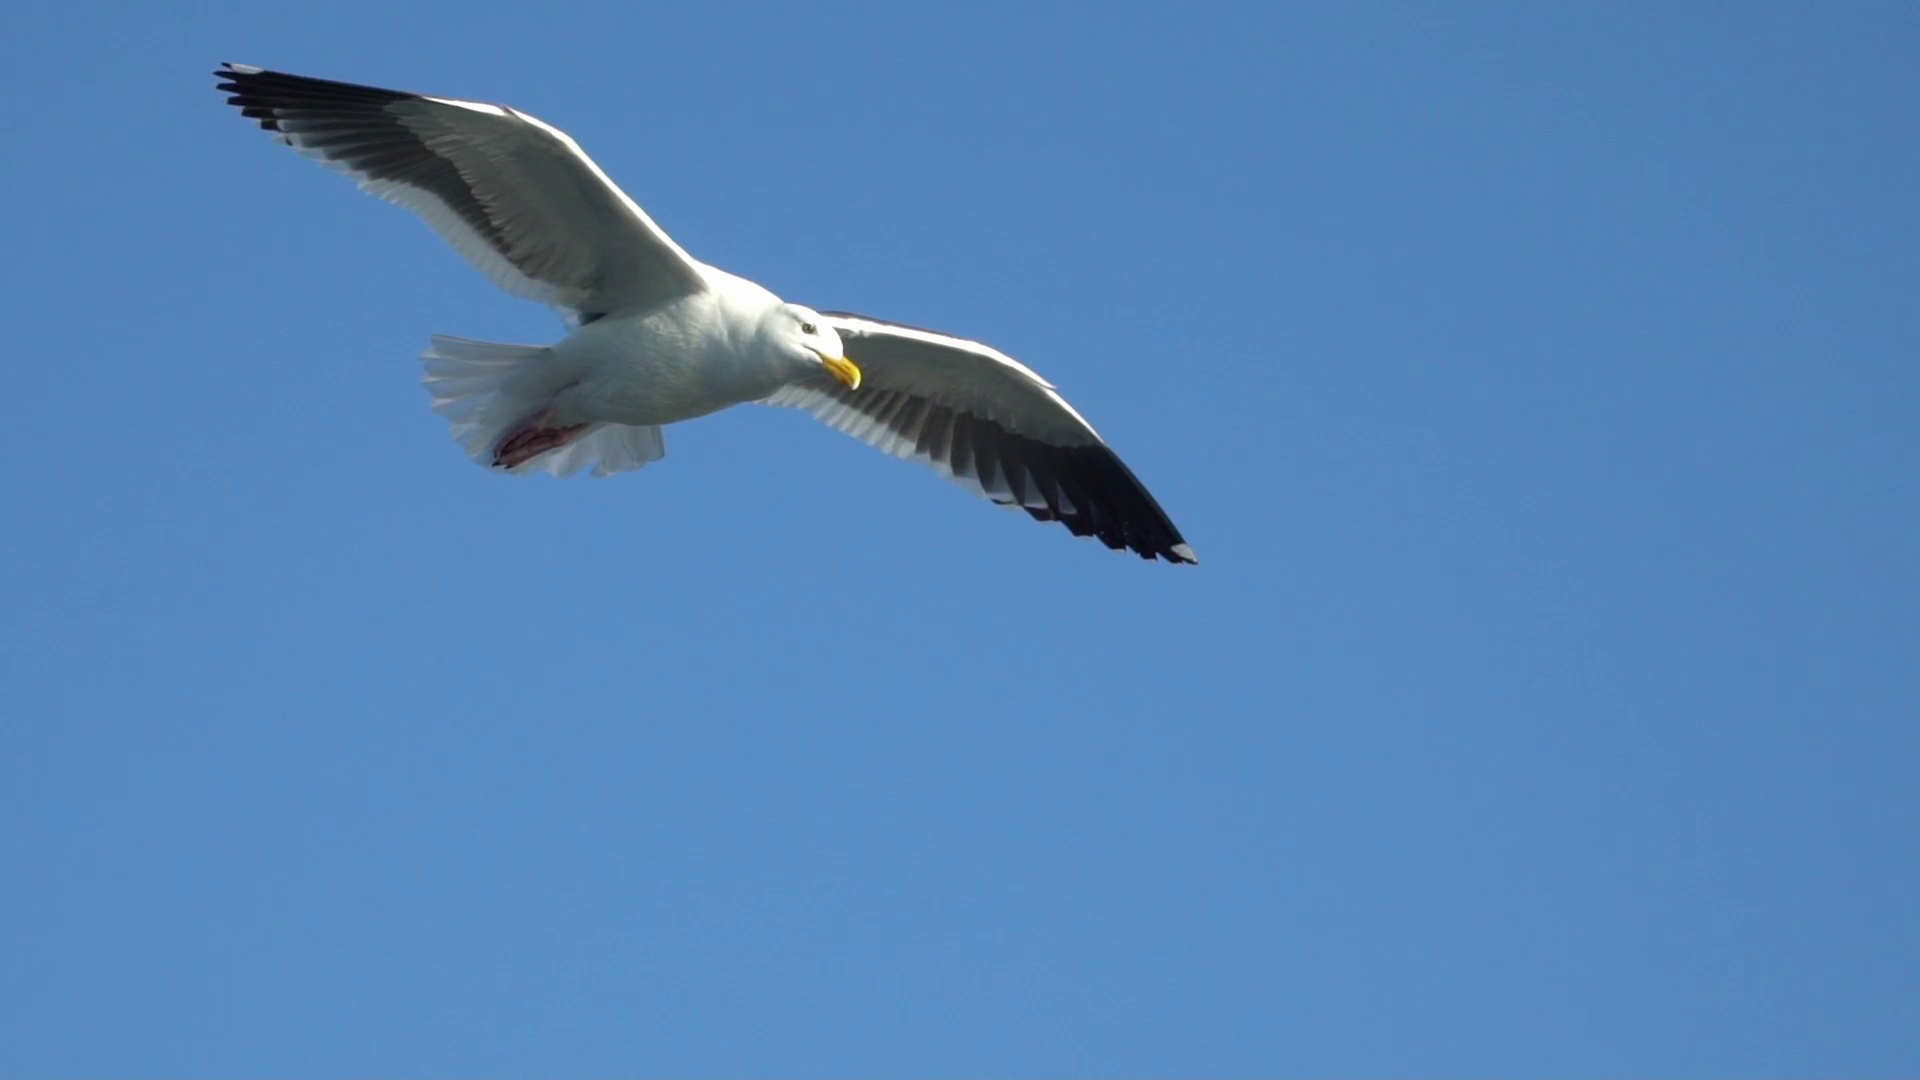bird: (214, 58, 1197, 571)
